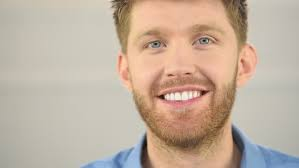white_male: (118, 8, 241, 124)
